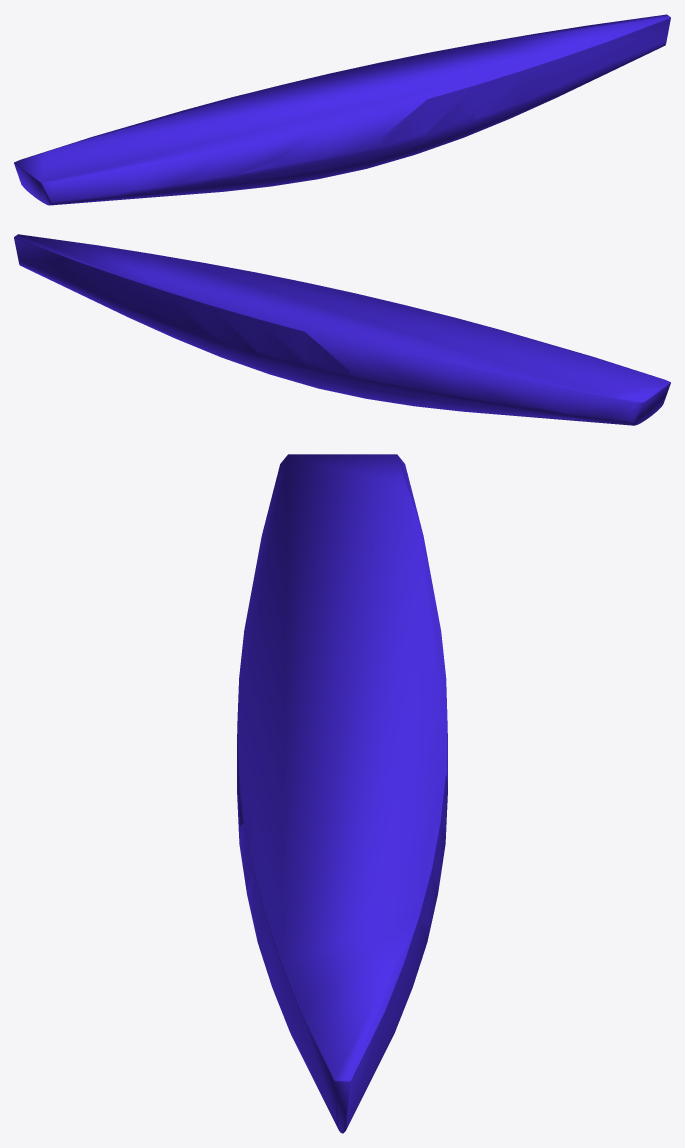
Rendered from deck_hull.dae.
The picture shows the model from 3 angles, top to bottom: view 1: azimuth 30°, elevation 25°; view 2: azimuth 150°, elevation 25°; view 3: azimuth 270°, elevation 25°; orthographic projection. The views are drawn at different scales.
Visible parts, largest first — view 1: deck_hull_convex_hull; view 2: deck_hull_convex_hull; view 3: deck_hull_convex_hull.
Boxes of the visible parts, x1=… form: deck_hull_convex_hull: x1=14, y1=14, x2=670, y2=205; deck_hull_convex_hull: x1=14, y1=234, x2=670, y2=425; deck_hull_convex_hull: x1=237, y1=454, x2=447, y2=1133.
Size of the model in its own units: 1.97 by 0.2806 by 0.212.
